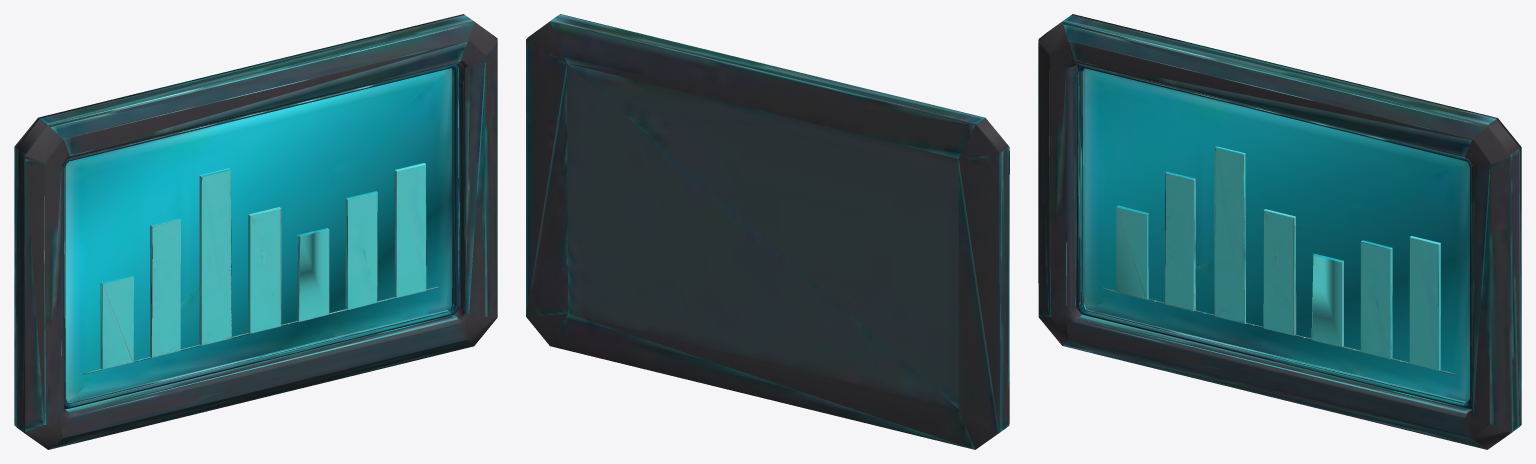
The model's file is usage-board.glb.
3 views of the same model, side by side, from view 1: azimuth 30°, elevation 25°; view 2: azimuth 150°, elevation 25°; view 3: azimuth 330°, elevation 25° (orthographic).
Size of the model in its own units: 0.9497 by 0.623 by 0.0518.
Materials: 1 (1 with a texture image).
